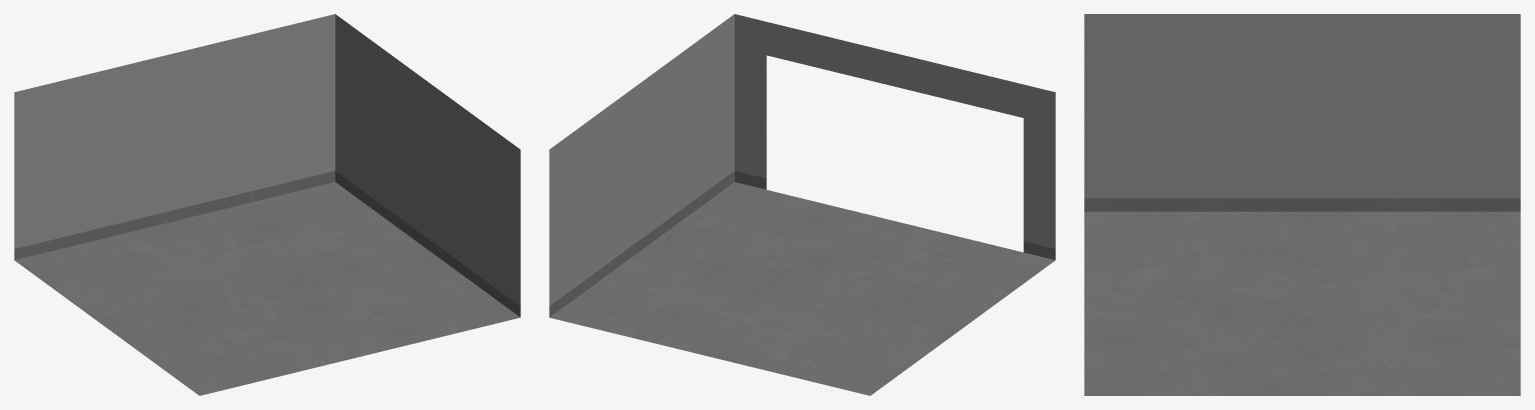
The model's file is Garage_20x20x10_Textured.glb.
3 views of the same model, side by side, from view 1: azimuth 30°, elevation 25°; view 2: azimuth 150°, elevation 25°; view 3: azimuth 270°, elevation 25° (orthographic). The views are drawn at different scales.
Parts seen in each view (by area): view 1: Garage_20x20x10; view 2: Garage_20x20x10; view 3: Garage_20x20x10.
Part boxes in pixels (bbox=[...]): Garage_20x20x10: bbox=[14, 14, 520, 395]; Garage_20x20x10: bbox=[549, 14, 1055, 395]; Garage_20x20x10: bbox=[1084, 14, 1520, 395].
Size of the model in its own units: 610 by 305 by 610.
1 material, 1 textured.
